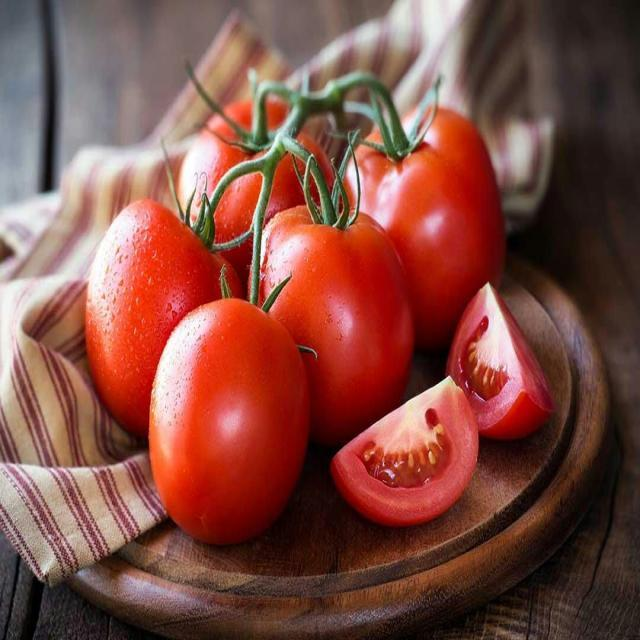kirmizi: (82, 196, 398, 544)
